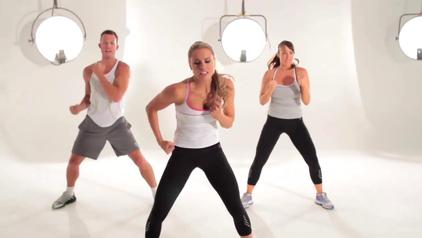walk: (256, 43, 316, 183)
